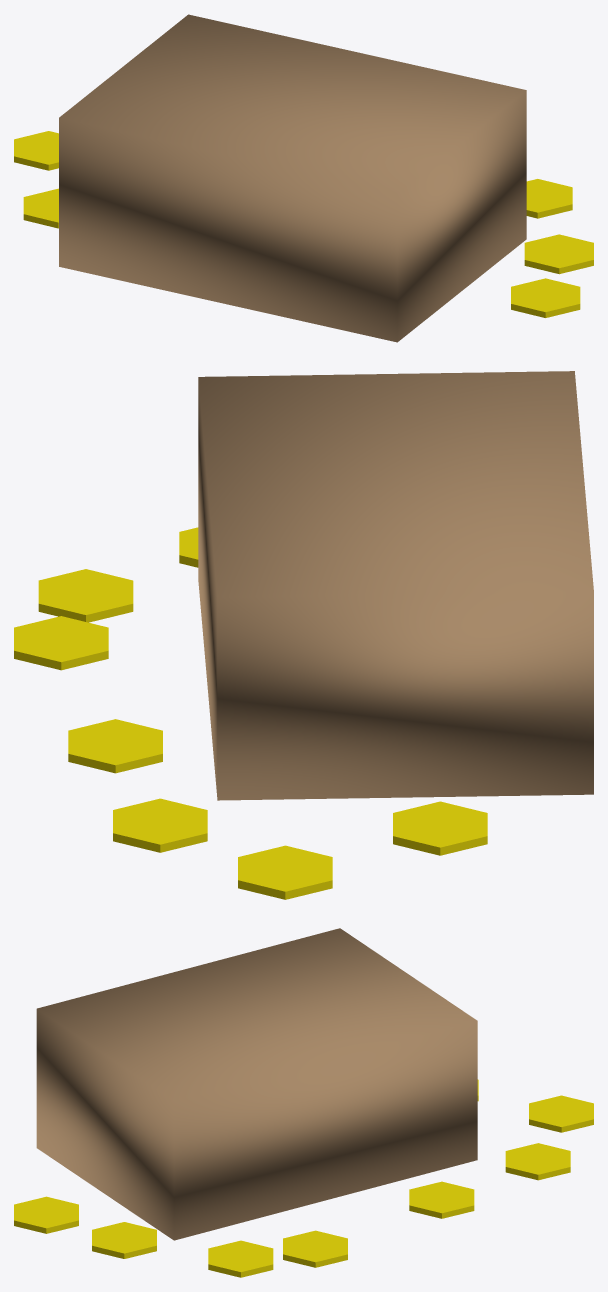
The model's file is Item_GoldChest_01.fbx.
The picture shows the model from 3 angles, top to bottom: view 1: azimuth 30°, elevation 25°; view 2: azimuth 150°, elevation 25°; view 3: azimuth 270°, elevation 25°; orthographic projection. The views are drawn at different scales.
Visible parts, largest first — view 1: baú1, pCylinder3, pCylinder9, pCylinder1, pCylinder5, pCylinder8; view 2: baú1, pCylinder6, pCylinder5, pCylinder7, pCylinder8, pCylinder2, pCylinder1, pCylinder3; view 3: baú1, pCylinder6, pCylinder1, pCylinder7, pCylinder2, pCylinder3, pCylinder9, pCylinder5.
Part boxes in pixels (box(x1,y1,x2,y2)): baú1: box(59, 14, 526, 342); pCylinder3: box(524, 234, 593, 274); pCylinder9: box(511, 278, 580, 317); pCylinder1: box(526, 179, 572, 218); pCylinder5: box(14, 131, 58, 170); pCylinder8: box(23, 188, 58, 228); baú1: box(198, 371, 593, 800); pCylinder6: box(113, 798, 207, 852); pCylinder5: box(238, 845, 332, 899); pCylinder7: box(68, 719, 162, 773); pCylinder8: box(393, 801, 487, 855); pCylinder2: box(14, 616, 108, 670); pCylinder1: box(38, 569, 133, 622); pCylinder3: box(179, 527, 198, 567); baú1: box(36, 928, 477, 1240); pCylinder6: box(505, 1143, 570, 1180); pCylinder1: box(208, 1240, 273, 1277); pCylinder7: box(409, 1181, 474, 1218); pCylinder2: box(283, 1230, 347, 1267); pCylinder3: box(92, 1222, 156, 1258); pCylinder9: box(14, 1196, 78, 1233); pCylinder5: box(529, 1095, 593, 1132).
Bounding box in the file's own units: 1.92 × 0.595 × 2.24.
